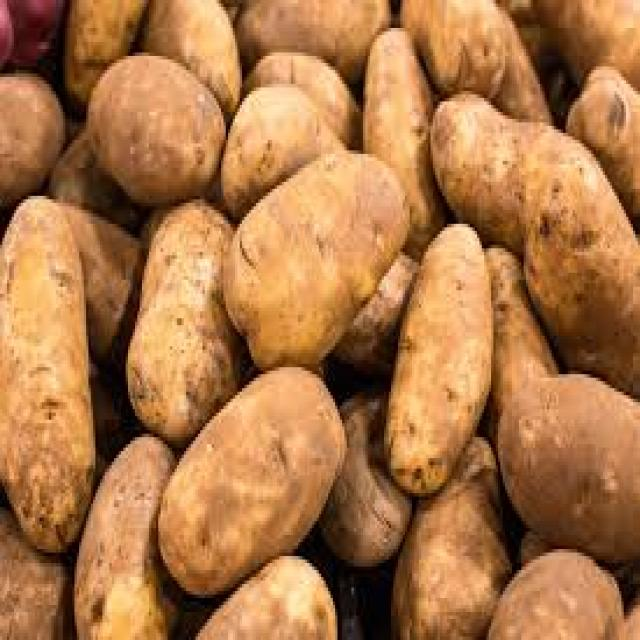organic waste: (0, 0, 638, 637), (156, 360, 344, 595), (221, 150, 407, 368), (0, 189, 93, 556), (379, 216, 489, 489), (123, 192, 242, 444), (496, 367, 638, 567), (521, 157, 638, 399), (388, 430, 516, 637), (426, 88, 586, 242), (70, 426, 184, 636), (84, 46, 226, 200), (358, 24, 444, 245), (217, 77, 349, 220), (395, 0, 549, 122), (314, 381, 407, 567), (56, 192, 142, 371), (482, 238, 556, 440), (232, 0, 391, 87), (561, 59, 638, 231), (484, 542, 621, 637), (135, 0, 242, 119), (240, 46, 358, 150), (193, 552, 335, 636), (44, 122, 140, 231), (333, 242, 414, 368), (526, 0, 637, 87), (0, 500, 70, 637), (498, 0, 572, 122), (0, 66, 65, 203), (60, 0, 149, 91), (84, 357, 132, 458), (5, 0, 62, 63), (621, 577, 638, 637), (519, 524, 542, 566), (0, 0, 14, 63)
